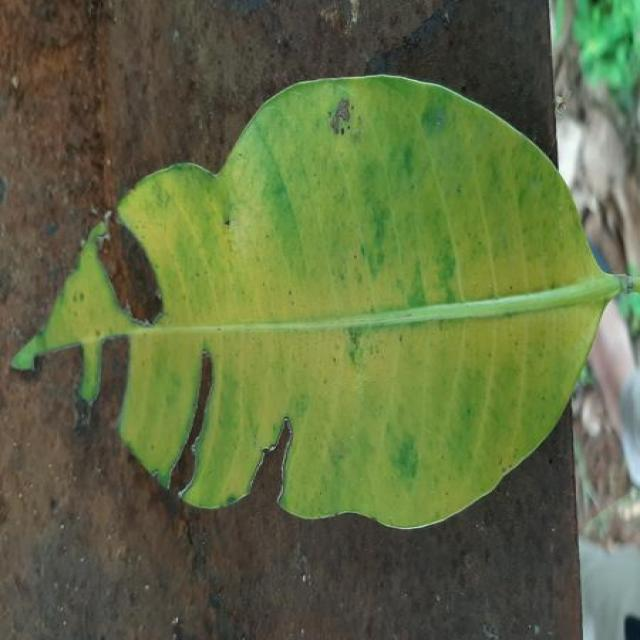mango: (12, 75, 622, 528), (82, 76, 620, 528)
